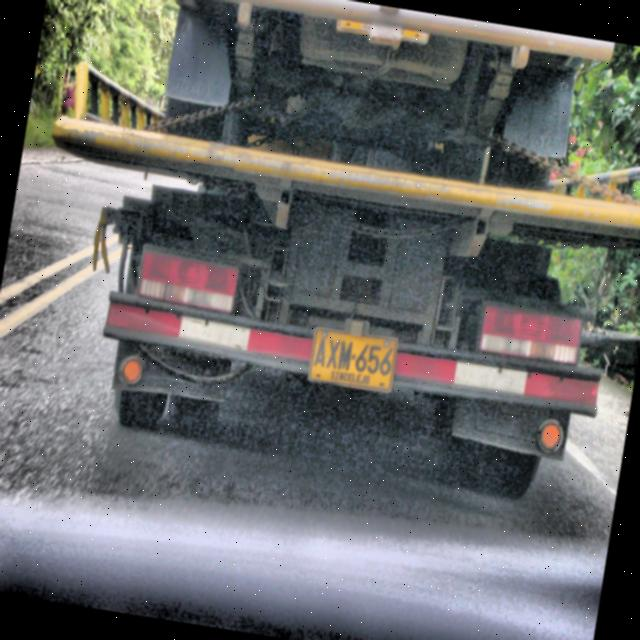5: (366, 344, 382, 376)
6: (379, 347, 395, 378), (354, 342, 369, 373)
A: (313, 337, 329, 368)
M: (337, 341, 354, 372)
X: (325, 338, 341, 369)
